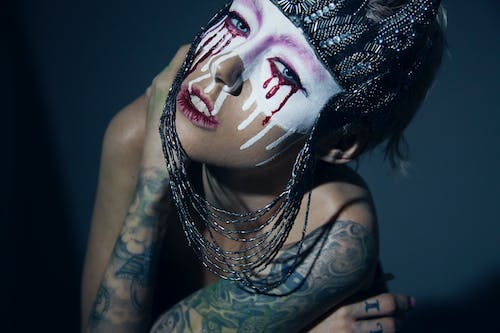blood: (181, 8, 252, 81), (258, 55, 303, 130), (177, 86, 219, 128)
